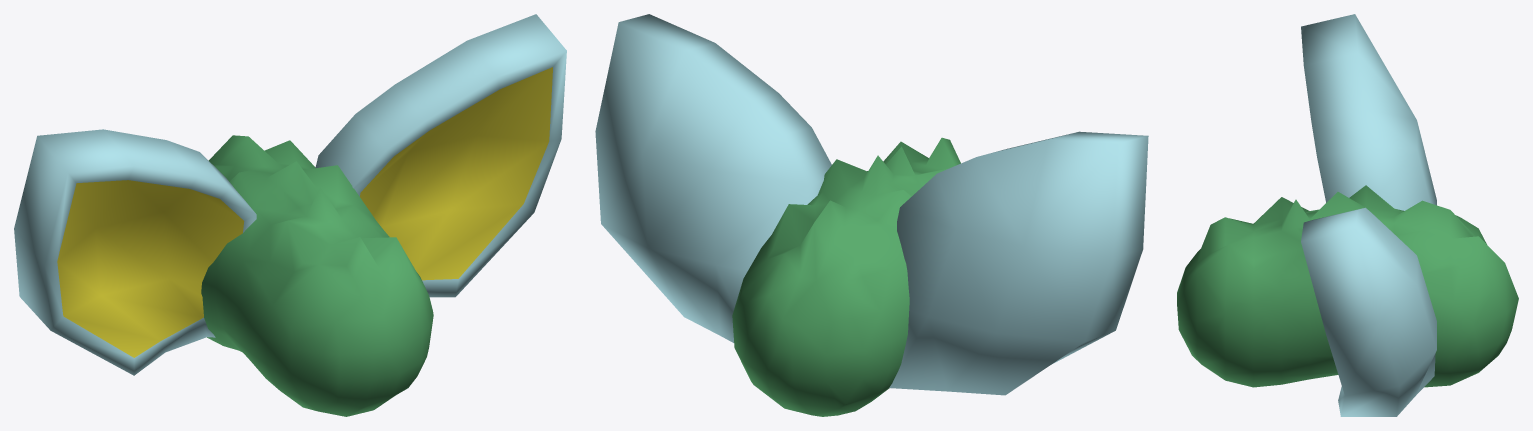
The model's file is desertFox.fbx.
3 renders of one model, left to right at view 1: azimuth 30°, elevation 25°; view 2: azimuth 150°, elevation 25°; view 3: azimuth 270°, elevation 25°, orthographic. The views are drawn at different scales.
Visible parts, largest first — view 1: Desert Fox; view 2: Desert Fox; view 3: Desert Fox.
Part boxes in pixels (x1,y1,x2,y2): Desert Fox: [14, 14, 566, 416]; Desert Fox: [595, 14, 1148, 416]; Desert Fox: [1177, 14, 1518, 416].
Bounding box in the file's own units: 59.05 × 31.81 × 38.28.
